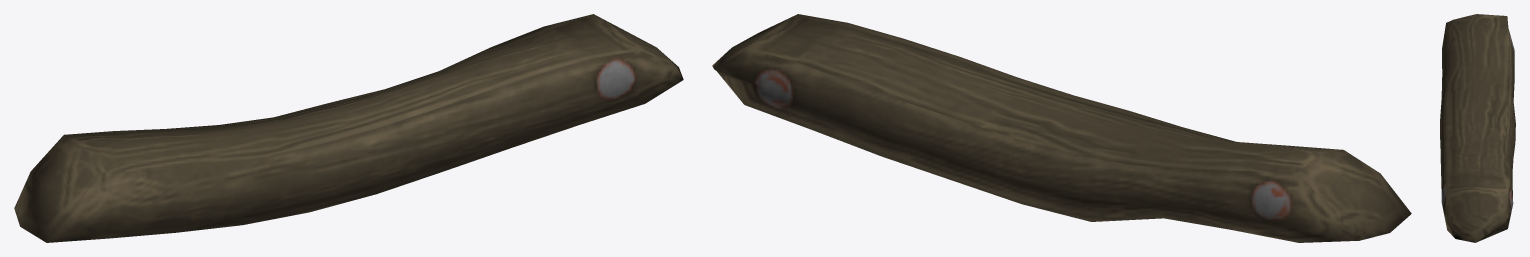
File: wood_small_B.fbx
The picture shows the model from 3 angles, left to right: view 1: azimuth 30°, elevation 25°; view 2: azimuth 150°, elevation 25°; view 3: azimuth 270°, elevation 25°; orthographic projection. The views are drawn at different scales.
Parts seen in each view (by area): view 1: wood_small_B; view 2: wood_small_B; view 3: wood_small_B.
Part boxes in pixels (left/top/right/bottom): wood_small_B: left=14, top=14, right=683, bottom=242; wood_small_B: left=712, top=14, right=1411, bottom=242; wood_small_B: left=1440, top=14, right=1515, bottom=242.
Size of what is drawn, in the model's own units: 149 by 21.29 by 22.76.
Materials: 1 (1 with a texture image).
